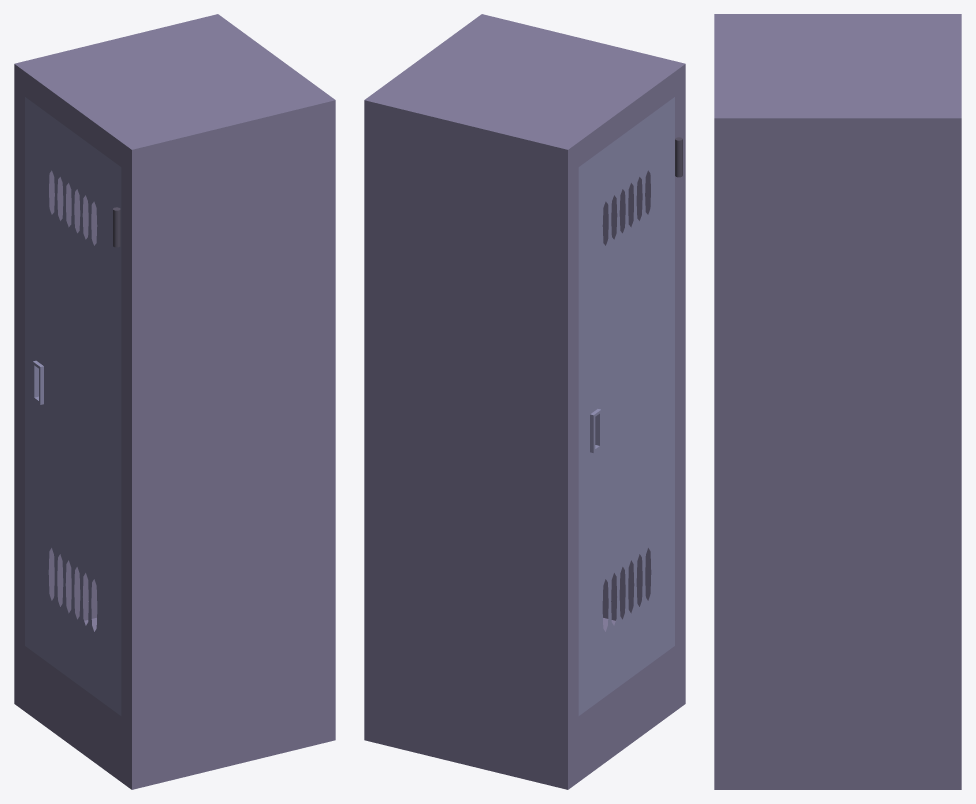
The model's file is locker.glb.
3 views of the same model, side by side, from view 1: azimuth 30°, elevation 25°; view 2: azimuth 150°, elevation 25°; view 3: azimuth 270°, elevation 25° (orthographic). The views are drawn at different scales.
Visible parts, largest first — view 1: Locker_Body, Locker_Door; view 2: Locker_Body, Locker_Door; view 3: Locker_Body.
Part boxes in pixels (x1,y1,x2,y2): Locker_Body: (14,14,335,789); Locker_Door: (25,97,121,715); Locker_Body: (364,14,685,789); Locker_Door: (578,97,674,715); Locker_Body: (714,14,961,789).
Bounding box in the file's own units: 2.07 × 6 × 2.
